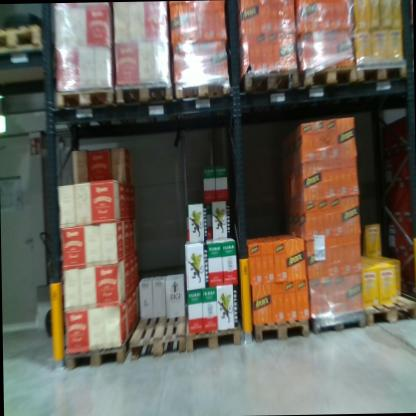pallet: (66, 307, 148, 372), (124, 297, 193, 362), (183, 297, 247, 357), (0, 19, 58, 74), (56, 80, 117, 132), (250, 306, 314, 349), (360, 283, 416, 332), (172, 77, 233, 109), (356, 54, 409, 89), (116, 75, 172, 107), (237, 67, 299, 93), (311, 302, 366, 330), (302, 63, 355, 88)
